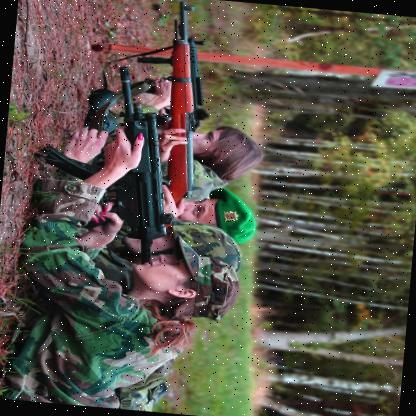rifle: (23, 66, 193, 266), (96, 0, 224, 127), (124, 18, 203, 211)
